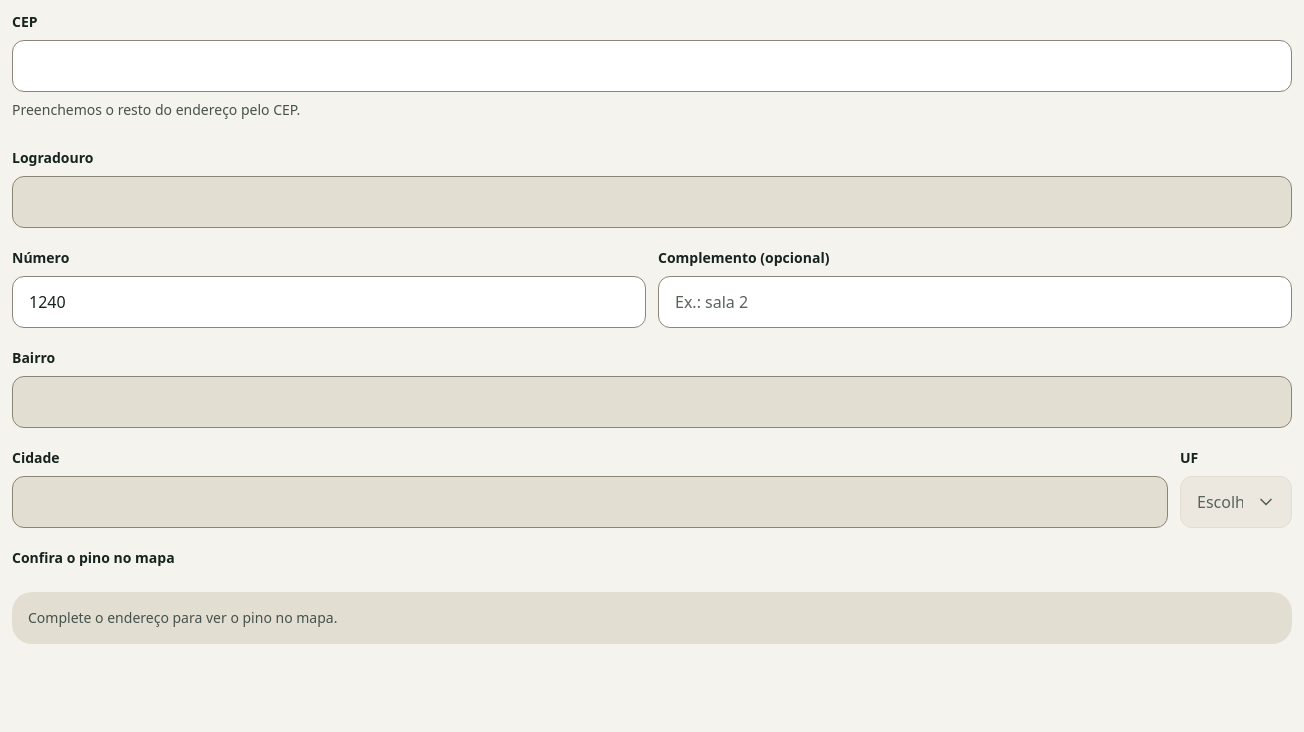
Test: AddressFields › sem nenhum ponto para o mapa, pede para conferir o endereço
This screenshot has width=1304, height=732.
Type "04015012" into the field labelled "CEP" at [652, 66], box [12,40,1292,92]
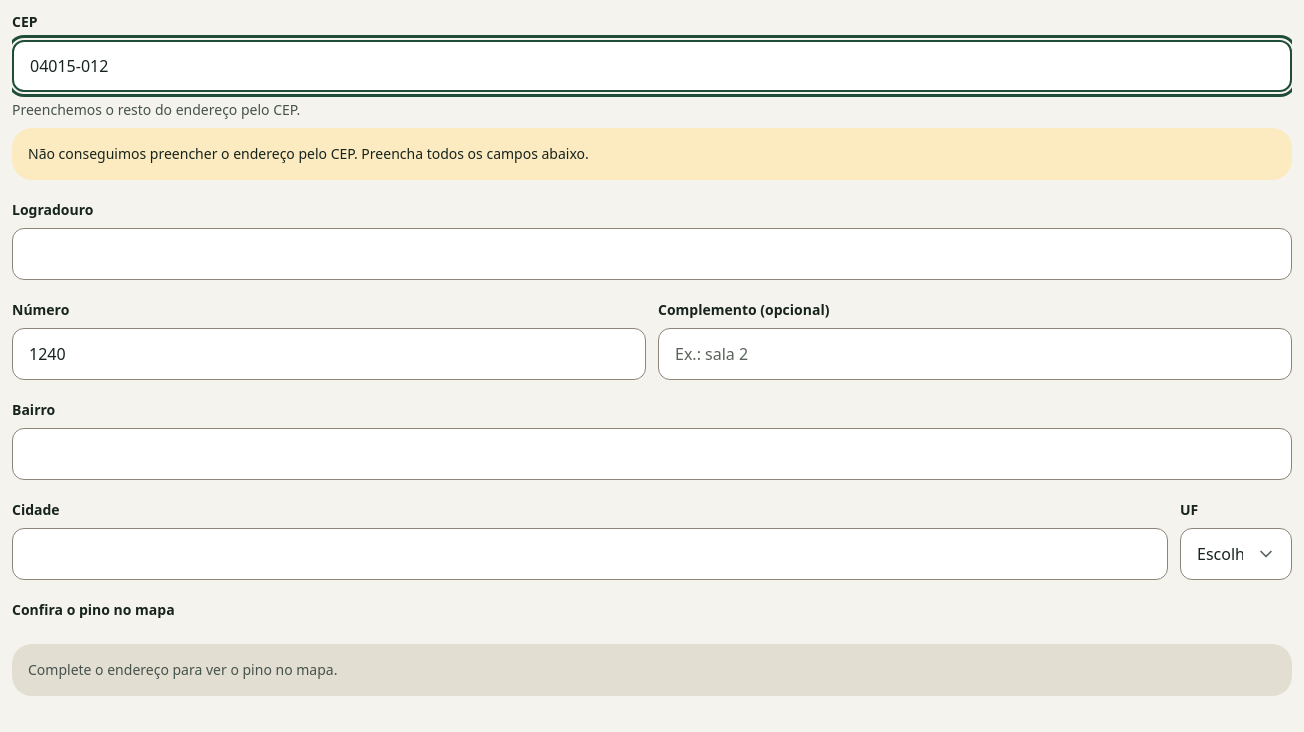
Type "Rua Manual" into the field labelled "Logradouro" at [652, 254], box [12,228,1292,280]
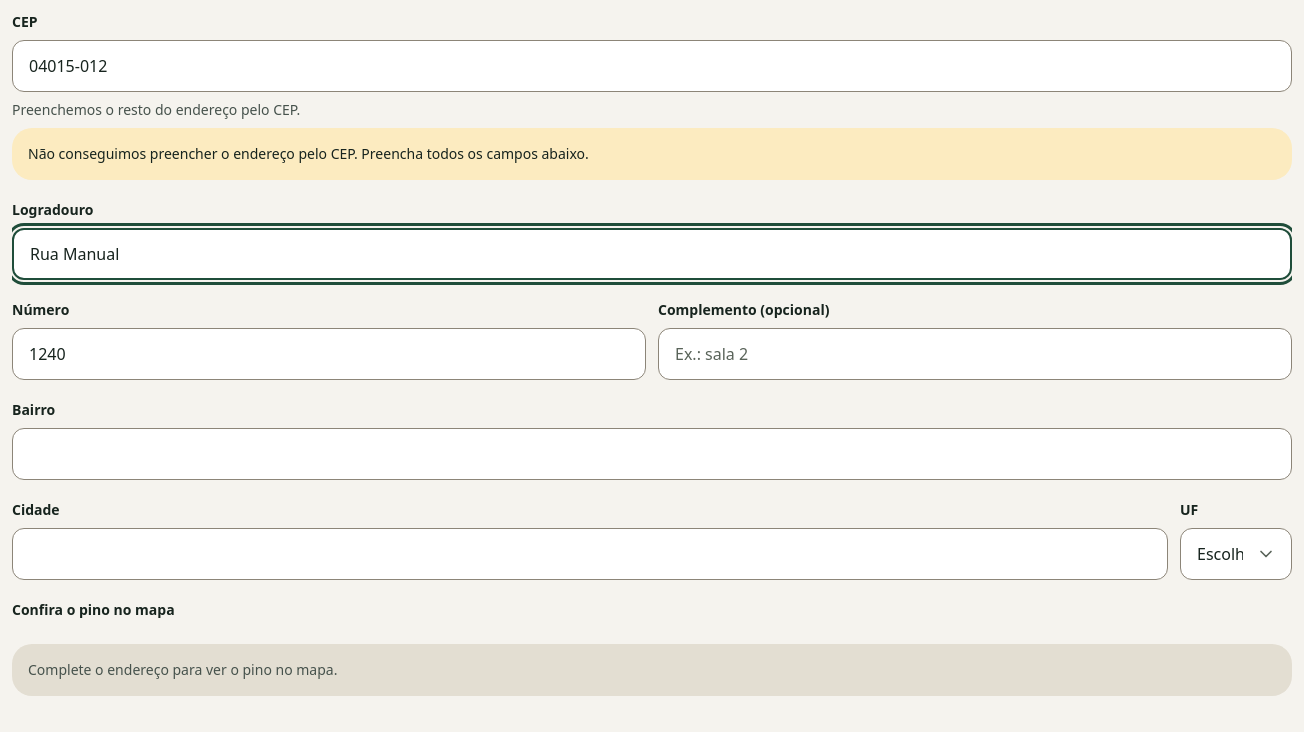
Type "Centro" into the field labelled "Bairro" at [652, 454], box [12,428,1292,480]
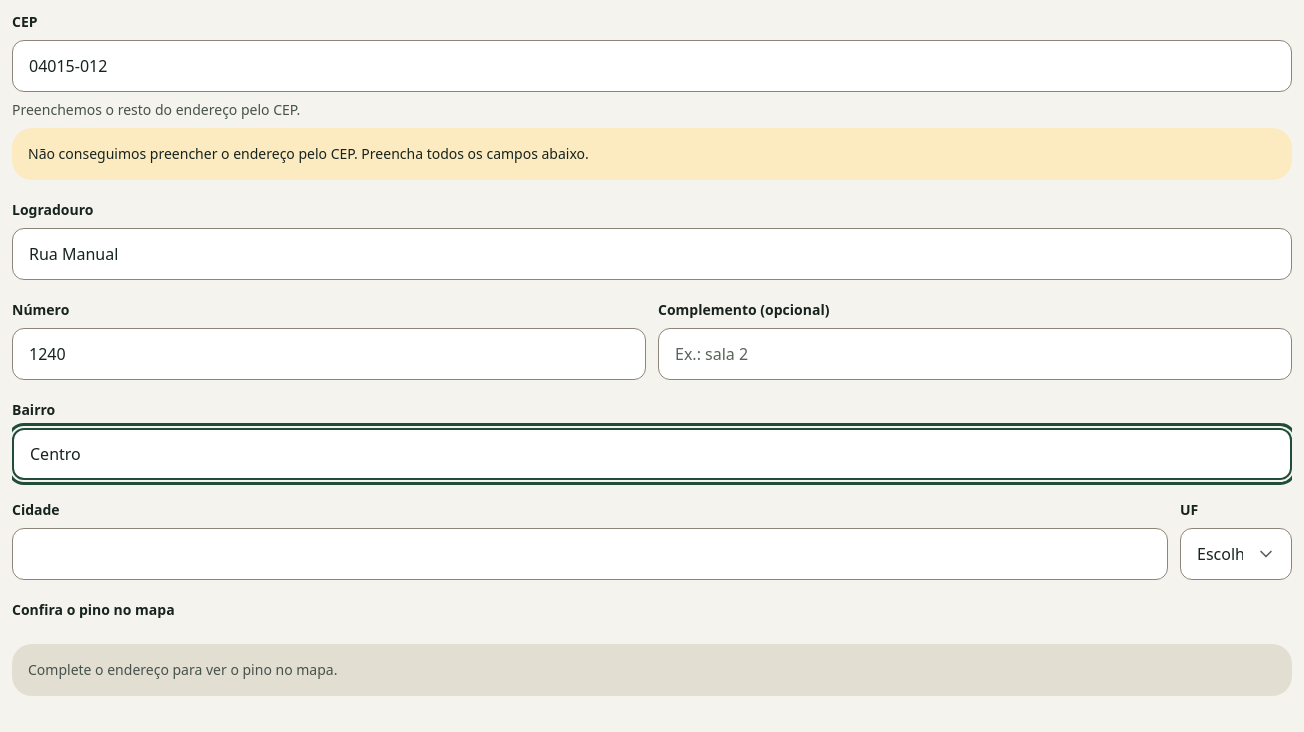
Type "Lugar Nenhum" into the field labelled "Cidade" at [590, 554], box [12,528,1168,580]
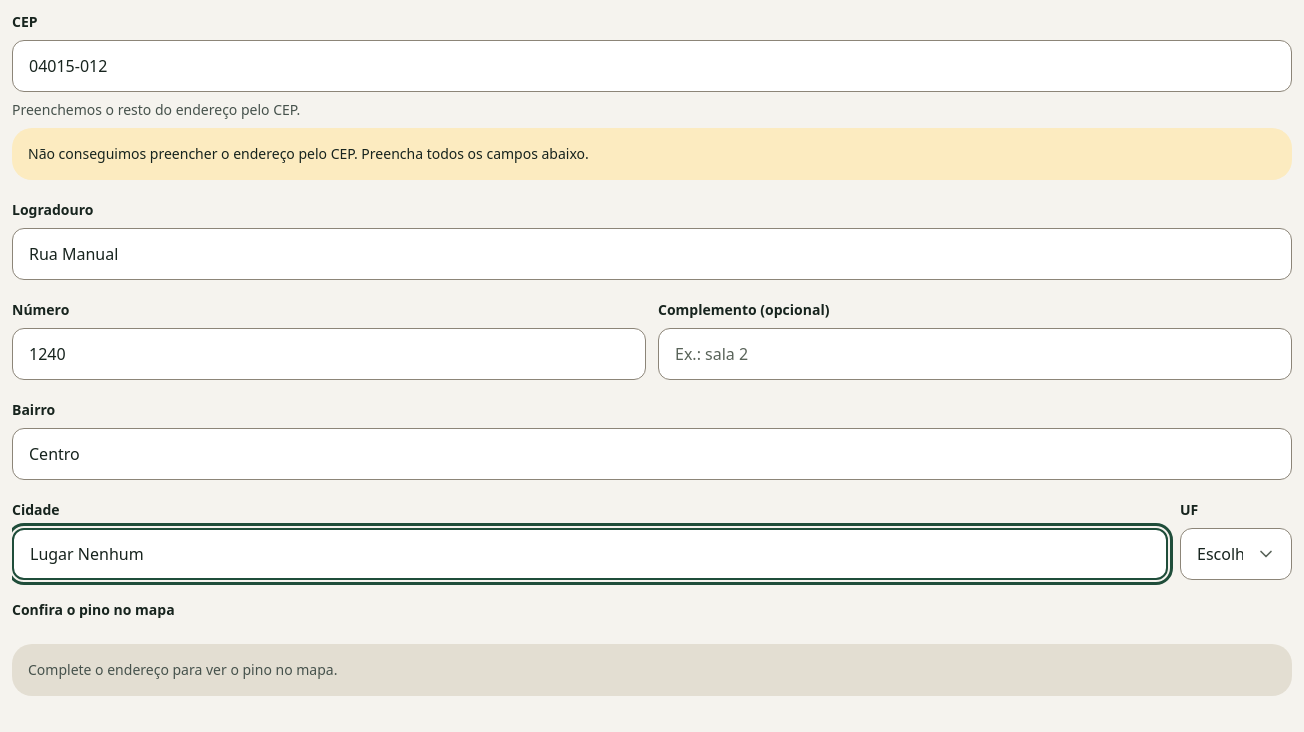
Select "SP" in the dropdown labelled "UF" at [1236, 554], box [1180,528,1292,580]
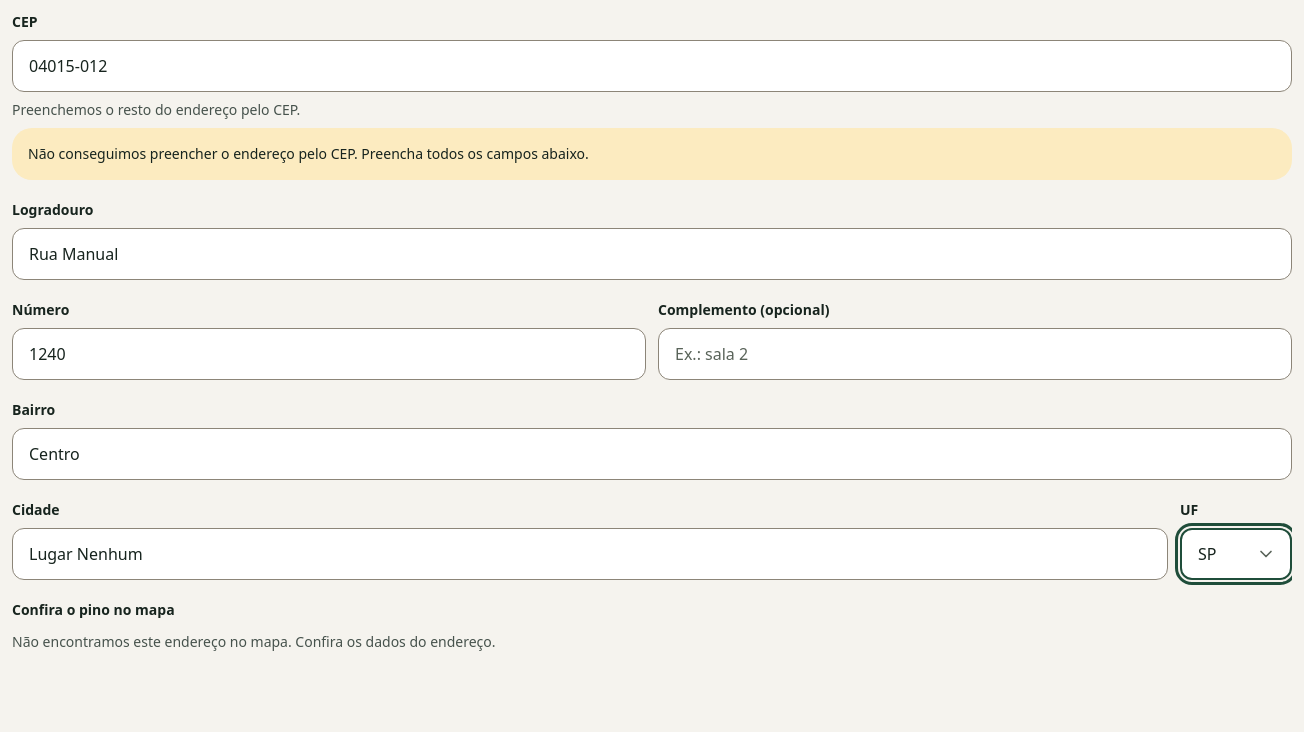
Expected: the text "Não encontramos este endereço no mapa. Confira os dados do endereço." is shown, [12,632,496,651]
